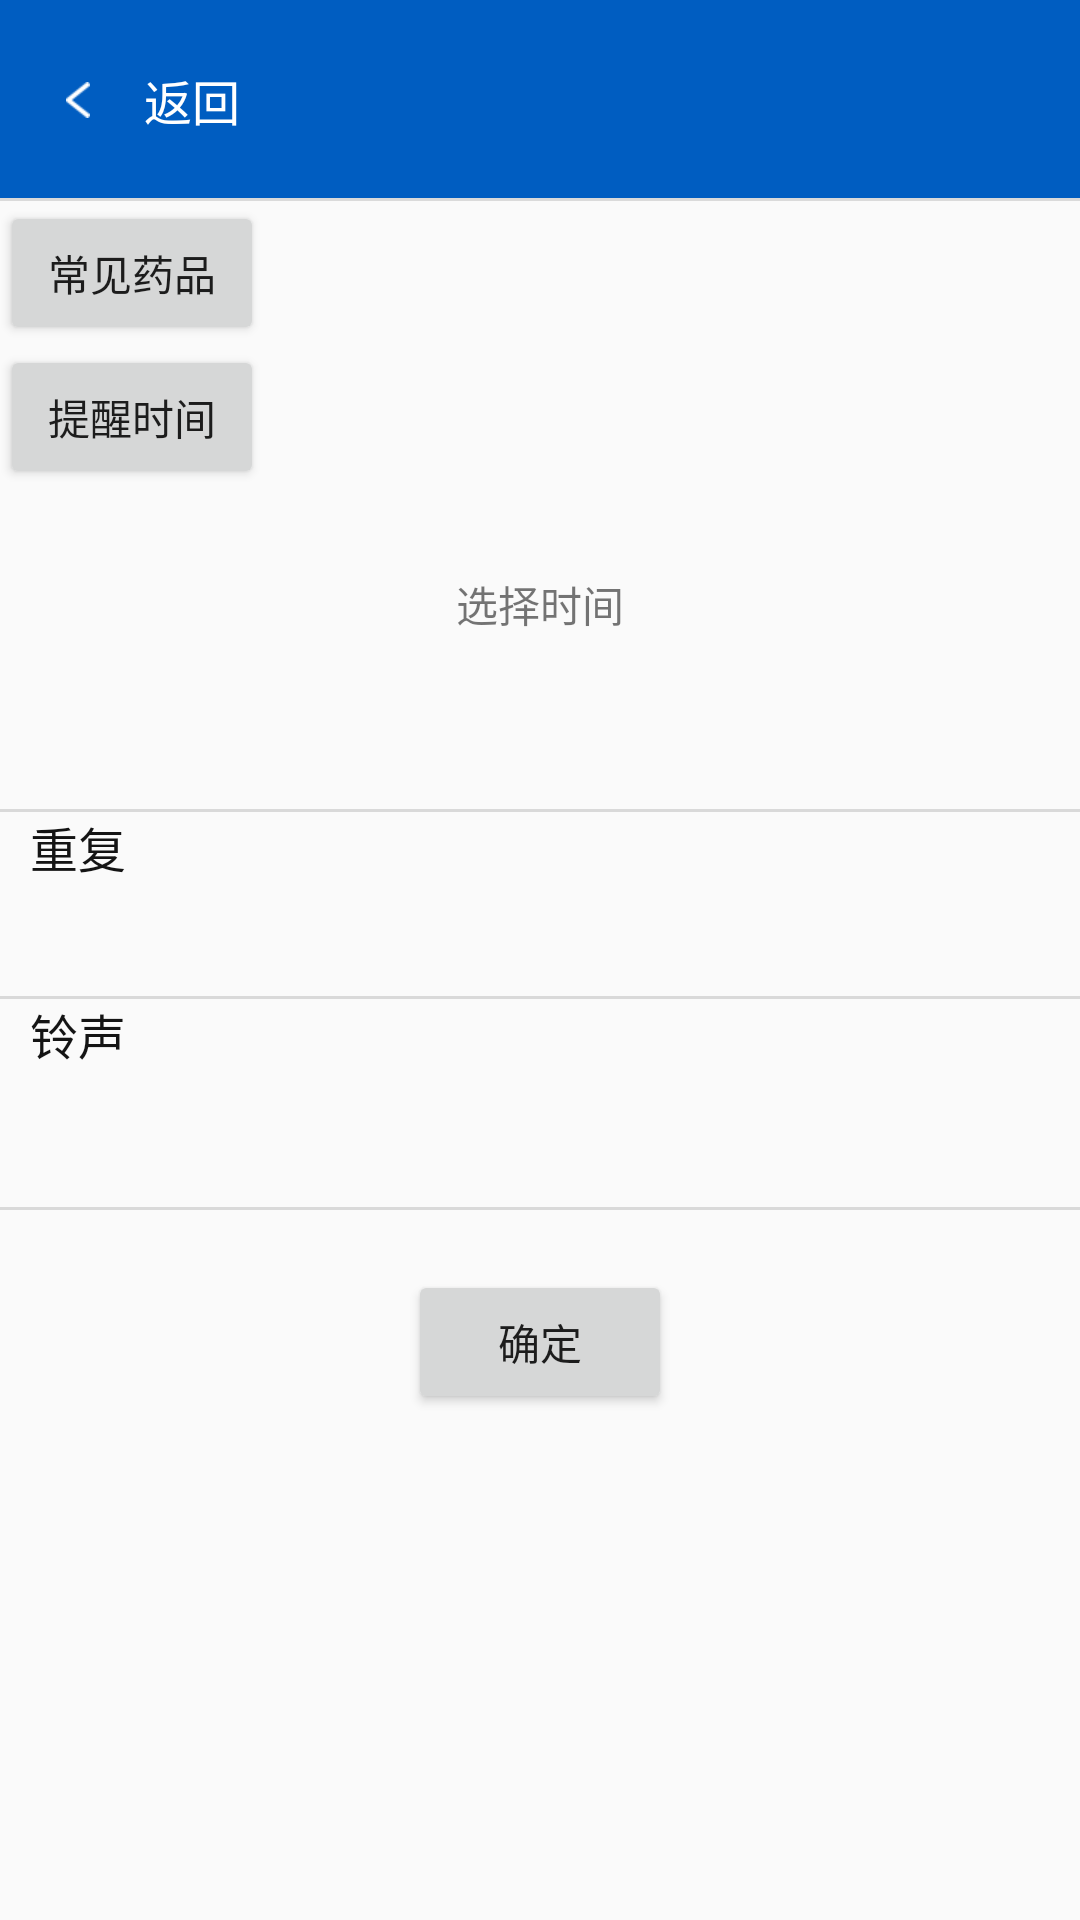

Screen size 1080px×1920px. Icon name, then its box in pixels as (x1, y1, x2, y2):
public back: (66, 82, 90, 118)
